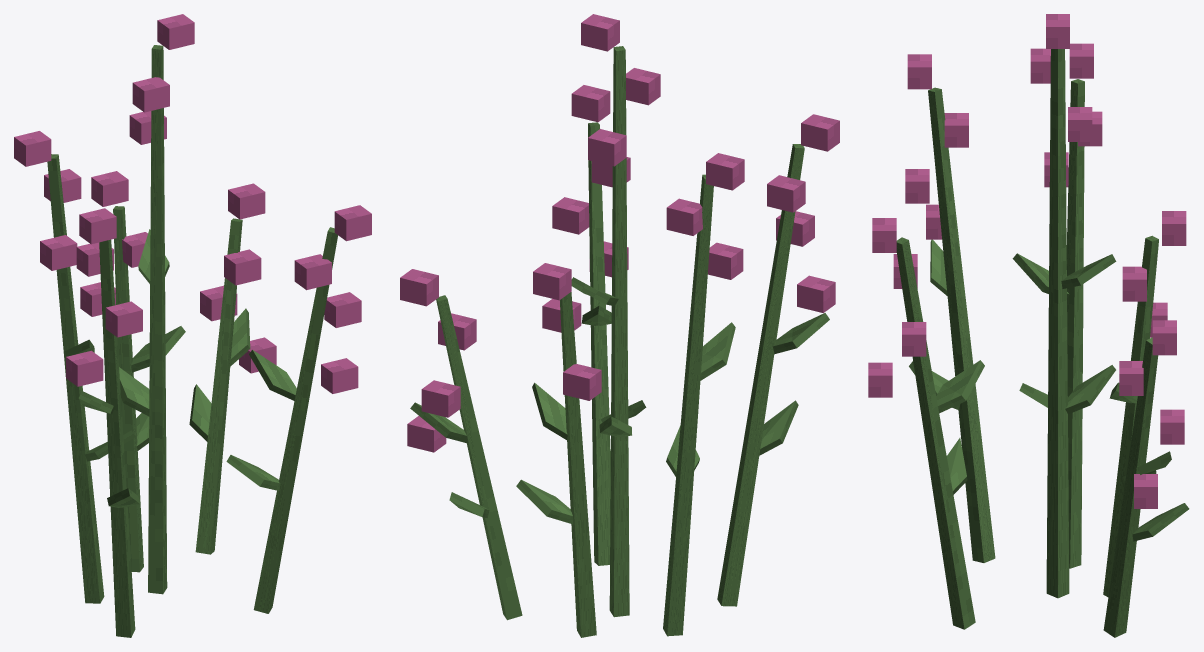
The model's file is f_fireweed.glb.
3 views of the same model, side by side, from view 1: azimuth 30°, elevation 25°; view 2: azimuth 150°, elevation 25°; view 3: azimuth 270°, elevation 25° (orthographic). The views are drawn at different scales.
Visible parts, largest first — view 1: block_raceme-blossom (×21), block_stem-0, block_stem-4, block_stem-1, block_stem-3, block_pointed-leaf (×6), block_stem-5, block_stem-2; view 2: block_raceme-blossom (×19), block_stem-0, block_stem-4, block_stem-1, block_pointed-leaf (×6), block_stem-3, block_stem-2, block_stem-5; view 3: block_raceme-blossom (×18), block_stem-0, block_stem-1, block_stem-3, block_stem-4, block_pointed-leaf (×7), block_stem-5, block_stem-2.
Boxes of the visible parts, box(x1,y1,x2,y2) form: block_raceme-blossom (×21): box(14, 14, 371, 393); block_stem-0: box(148, 45, 167, 594); block_stem-4: box(47, 154, 104, 603); block_stem-1: box(99, 239, 135, 637); block_stem-3: box(253, 227, 337, 613); block_pointed-leaf (×6): box(119, 308, 296, 490); block_stem-5: box(195, 218, 242, 554); block_stem-2: box(113, 206, 143, 572); block_raceme-blossom (×19): box(400, 14, 839, 452); block_stem-0: box(609, 46, 629, 617); block_stem-4: box(663, 174, 713, 636); block_stem-1: box(717, 144, 804, 606); block_pointed-leaf (×6): box(410, 313, 829, 524); block_stem-3: box(588, 122, 610, 565); block_stem-2: box(560, 292, 596, 637); block_stem-5: box(436, 295, 522, 620); block_raceme-blossom (×18): box(868, 14, 1186, 508); block_stem-0: box(1046, 49, 1069, 598); block_stem-1: box(928, 87, 995, 562); block_stem-3: box(896, 237, 975, 629); block_stem-4: box(1066, 79, 1084, 568); block_pointed-leaf (×7): box(930, 239, 1189, 541); block_stem-5: box(1103, 337, 1158, 637); block_stem-2: box(1103, 235, 1158, 596).
Bounding box in the file's own units: 0.501 × 0.9048 × 0.4508.
Materials: 1 (1 with a texture image).
